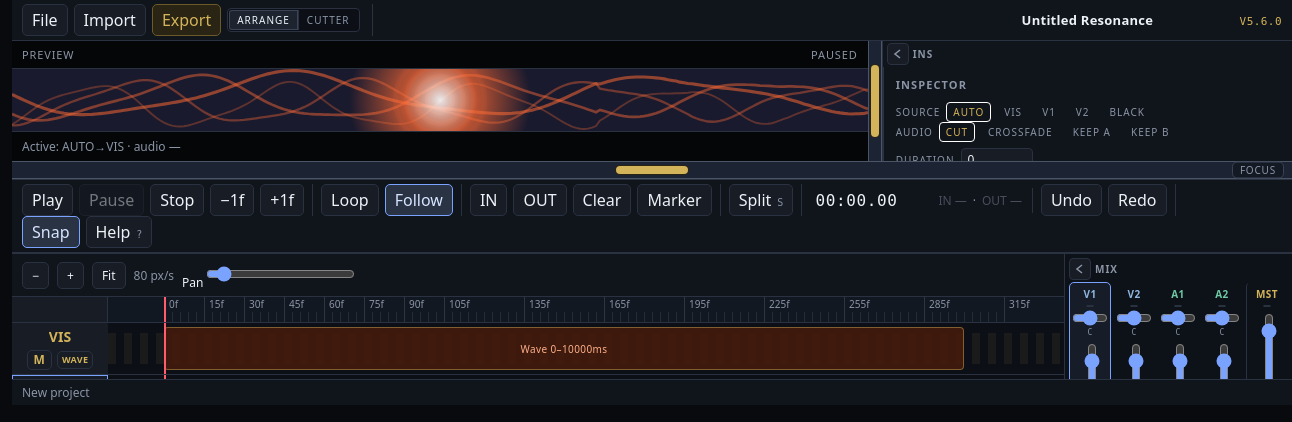
Test: ScreenNav click + TAB › items are buttons; click CUTTER shows cutter, click ARRANGE shows timeline
The image size is (1292, 422).
Check: the element with test id "timeline" is shown, box [12,254,1064,379]
Check: the element with test id "preview" is shown, box [12,41,868,161]
What coordinates should you click on to do the following:
click the button with test id "screen-nav-cutter"
I would click on:
 (328, 20)
Its box is [298,10,358,30].
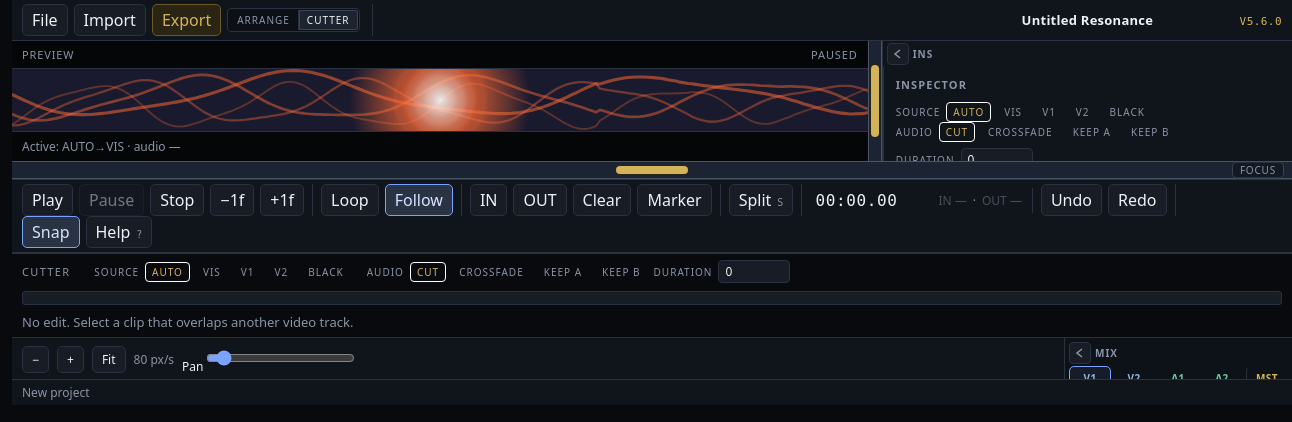
Check: the element with test id "preview" is shown, box [12,41,868,161]
Check: the element with test id "cutter" is shown, box [12,253,1291,337]
What coordinates should you click on to do the following:
click the button with test id "screen-nav-arrange"
I would click on:
 (264, 20)
Its box is [229,10,298,30].
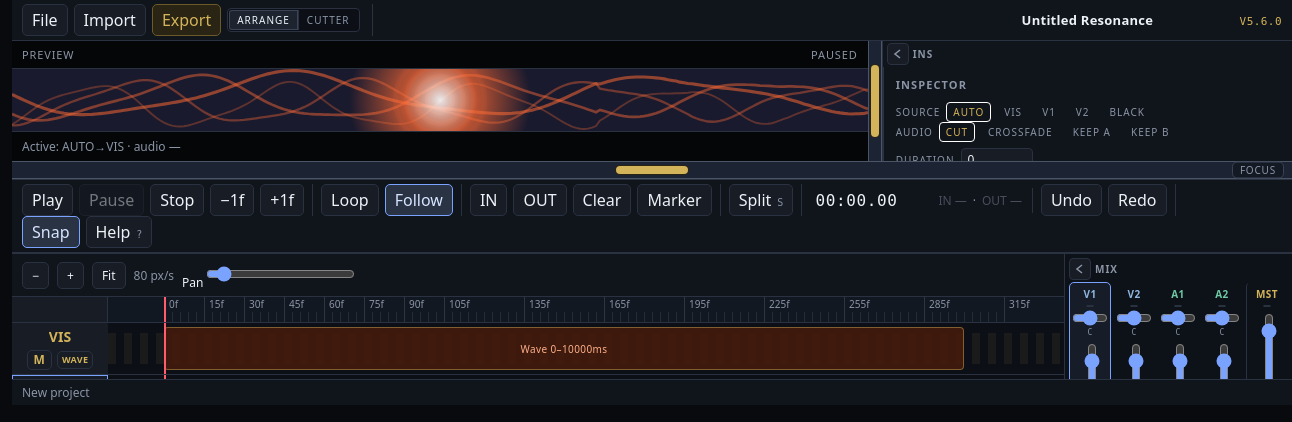
Check: the element with test id "timeline" is shown, box [12,254,1064,379]
Check: the element with test id "cutter" is gone
